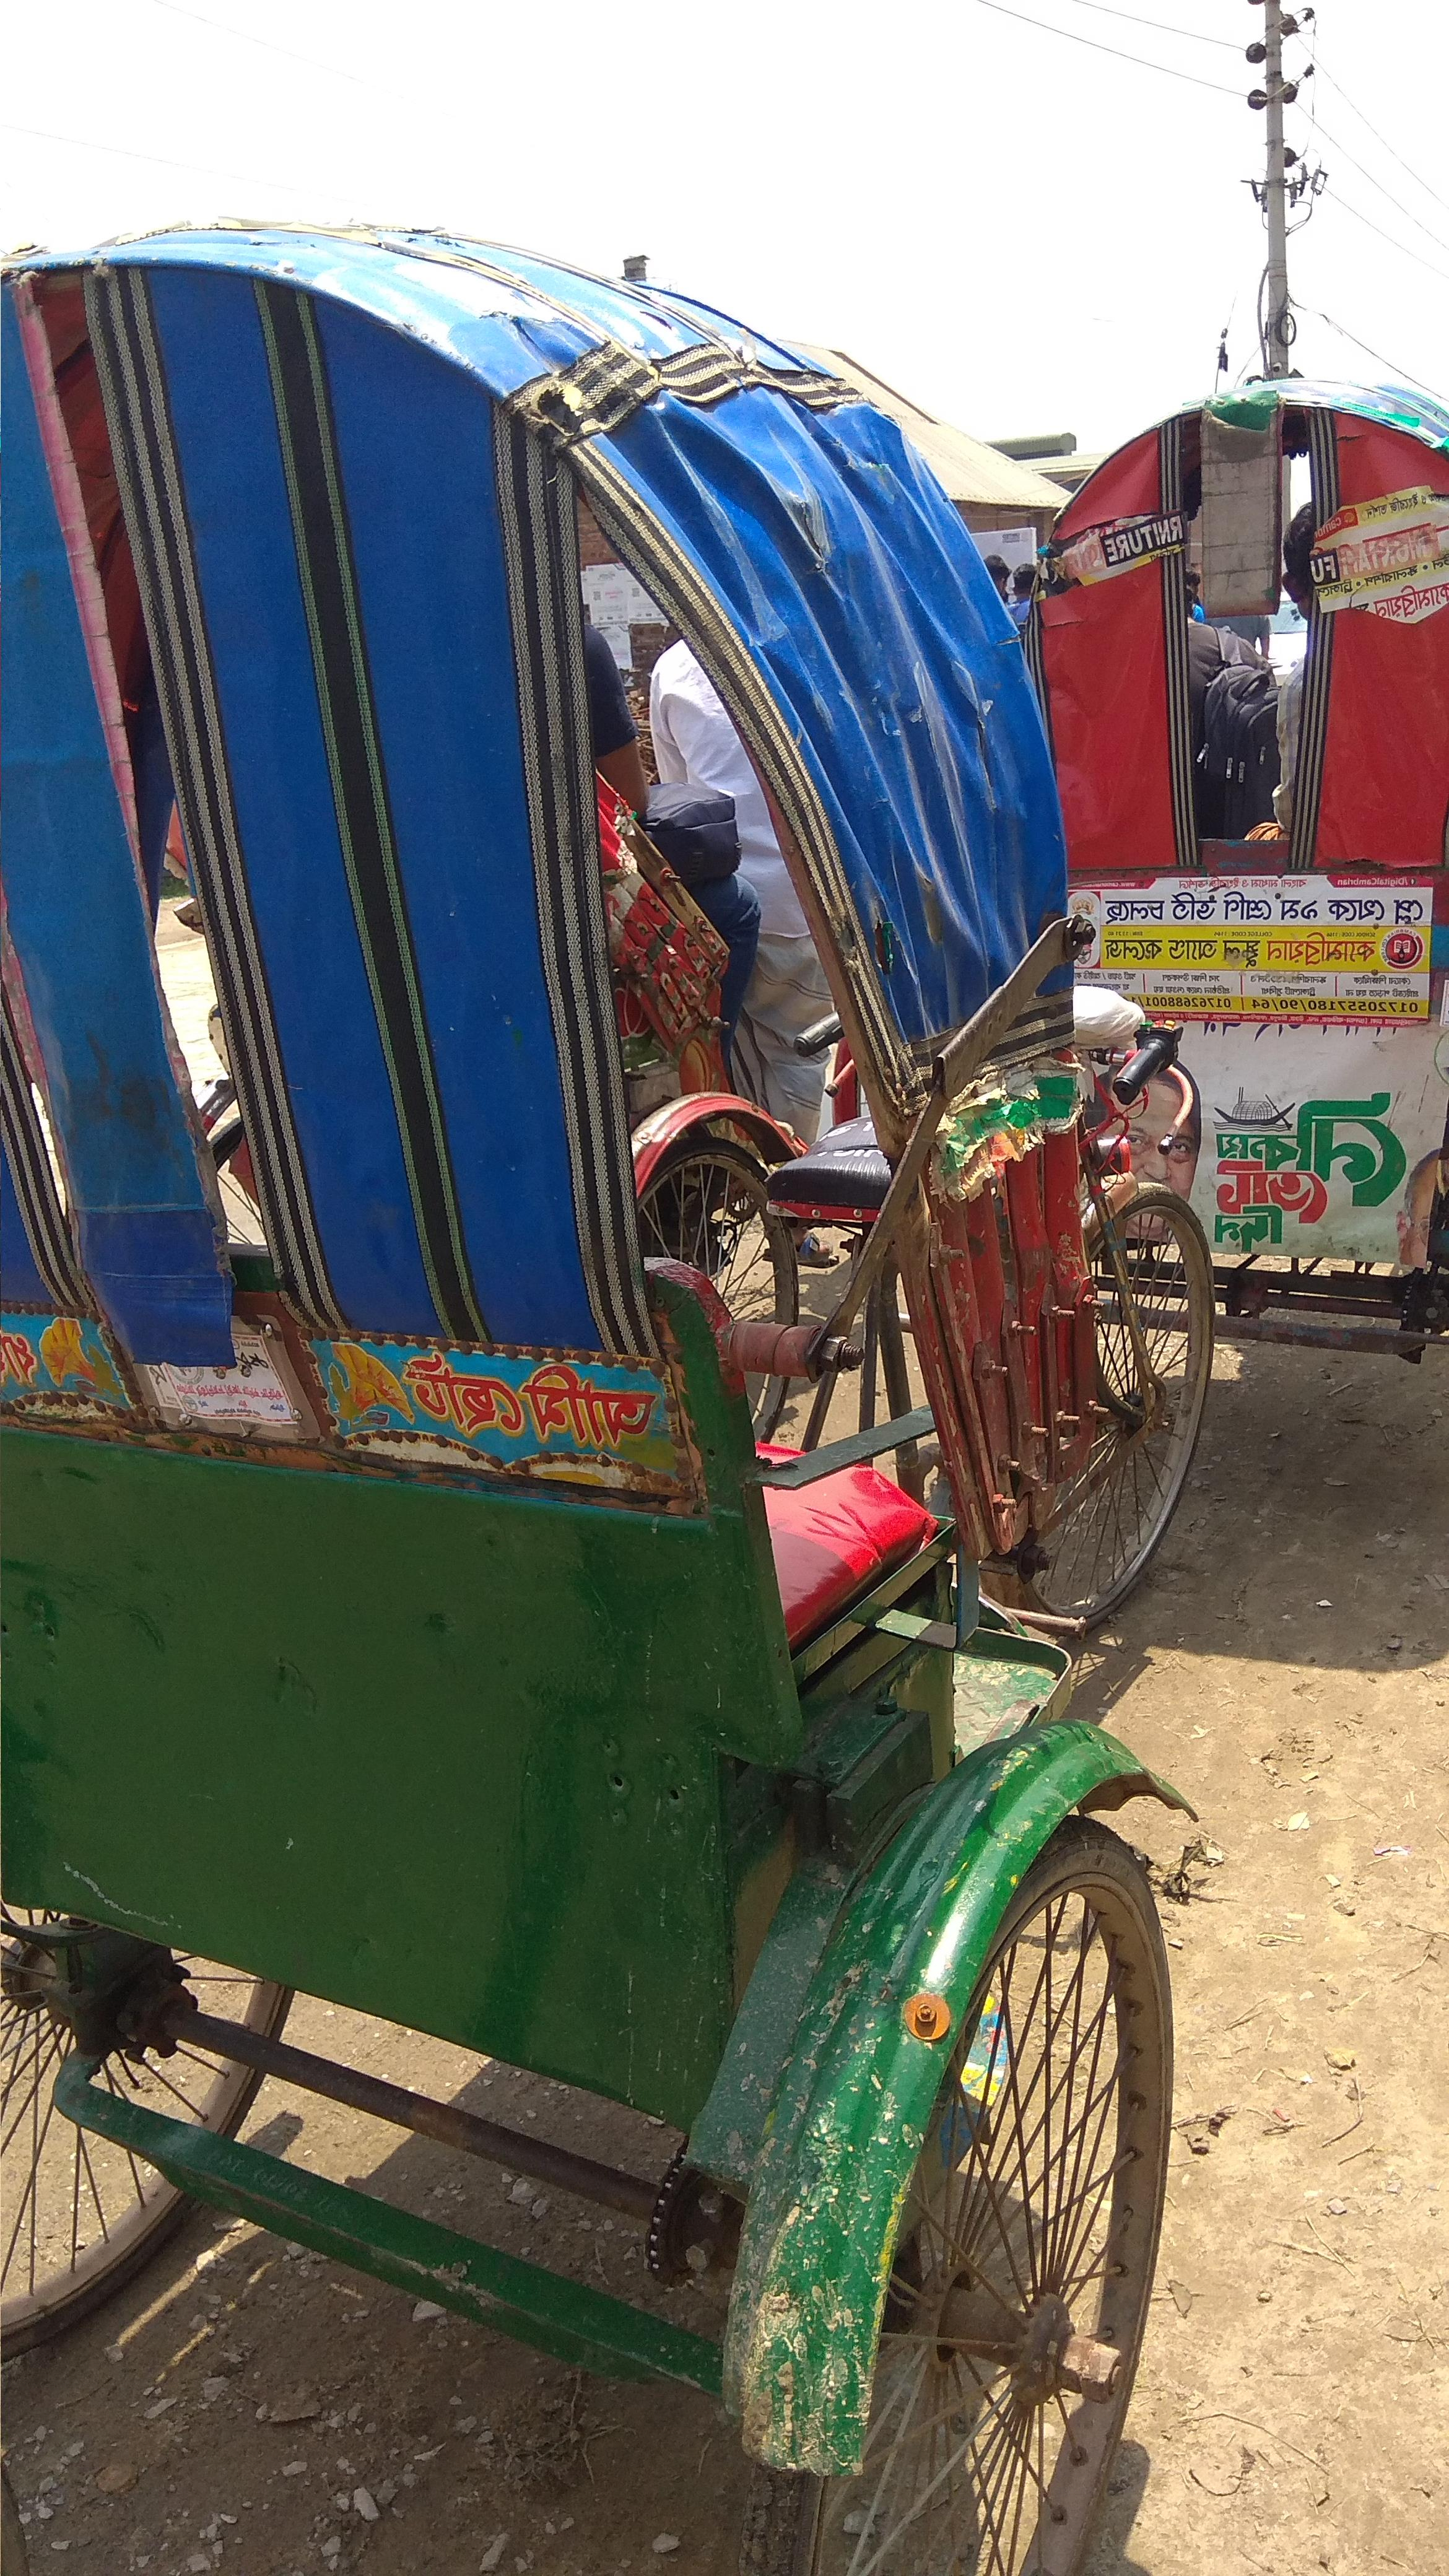Rickshaw: (39, 147, 1113, 2468), (970, 264, 1440, 1270)
